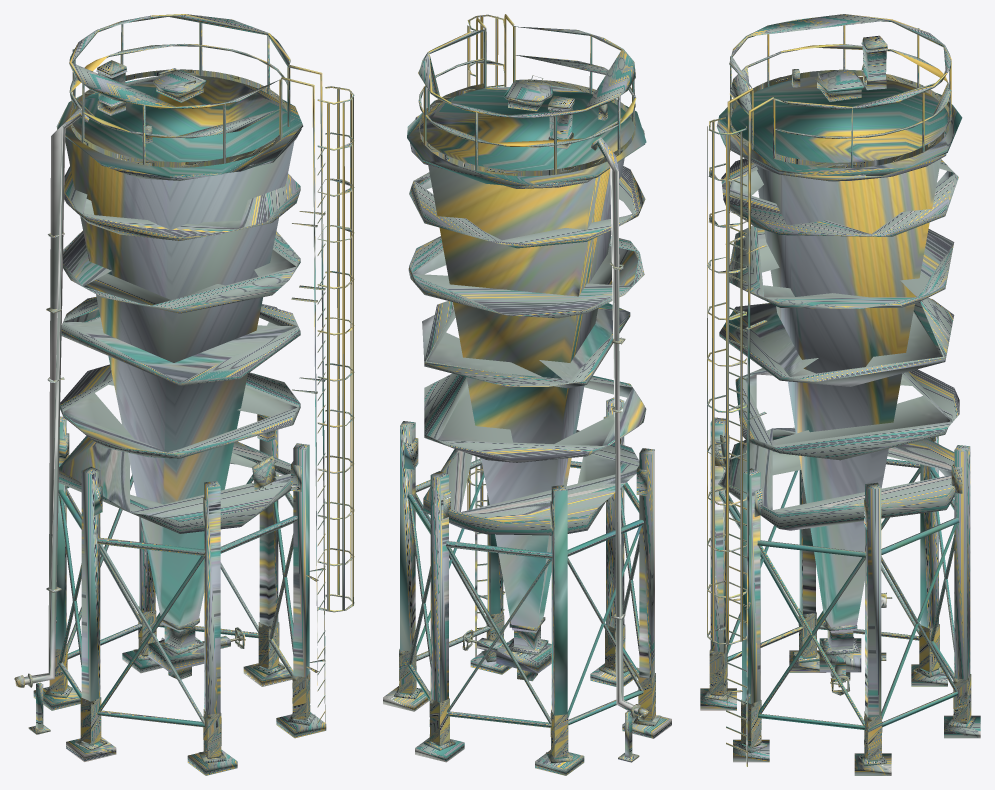
Rendered from silo.glb.
3 renders of one model, left to right at view 1: azimuth 30°, elevation 25°; view 2: azimuth 150°, elevation 25°; view 3: azimuth 270°, elevation 25°, orthographic.
Parts seen in each view (by area): view 1: silo_body; view 2: silo_body; view 3: silo_body.
Part boxes in pixels (x1,y1,x2,y2): silo_body: (14,14,354,775); silo_body: (383,14,671,775); silo_body: (700,14,980,775).
Size of the model in its own units: 5.14 by 12.21 by 4.71.
1 material, 1 textured.
